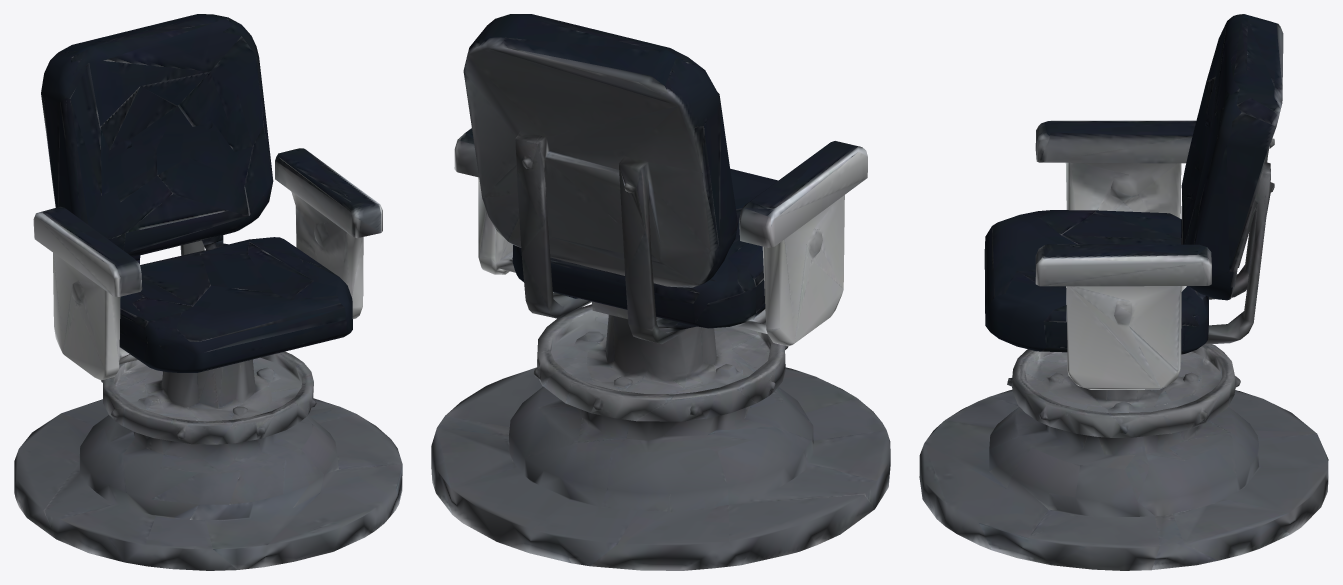
The picture shows the model from 3 angles, left to right: view 1: azimuth 30°, elevation 25°; view 2: azimuth 150°, elevation 25°; view 3: azimuth 270°, elevation 25°; orthographic projection. The views are drawn at different scales.
Bounding box in the file's own units: 1.61 × 1.9 × 1.61.
1 material, 1 textured.
